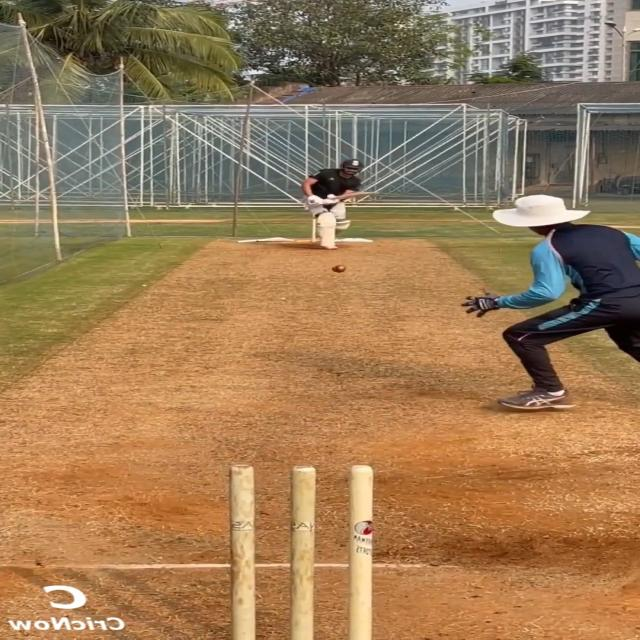ball: (332, 265, 346, 273)
stump: (225, 463, 376, 640)
